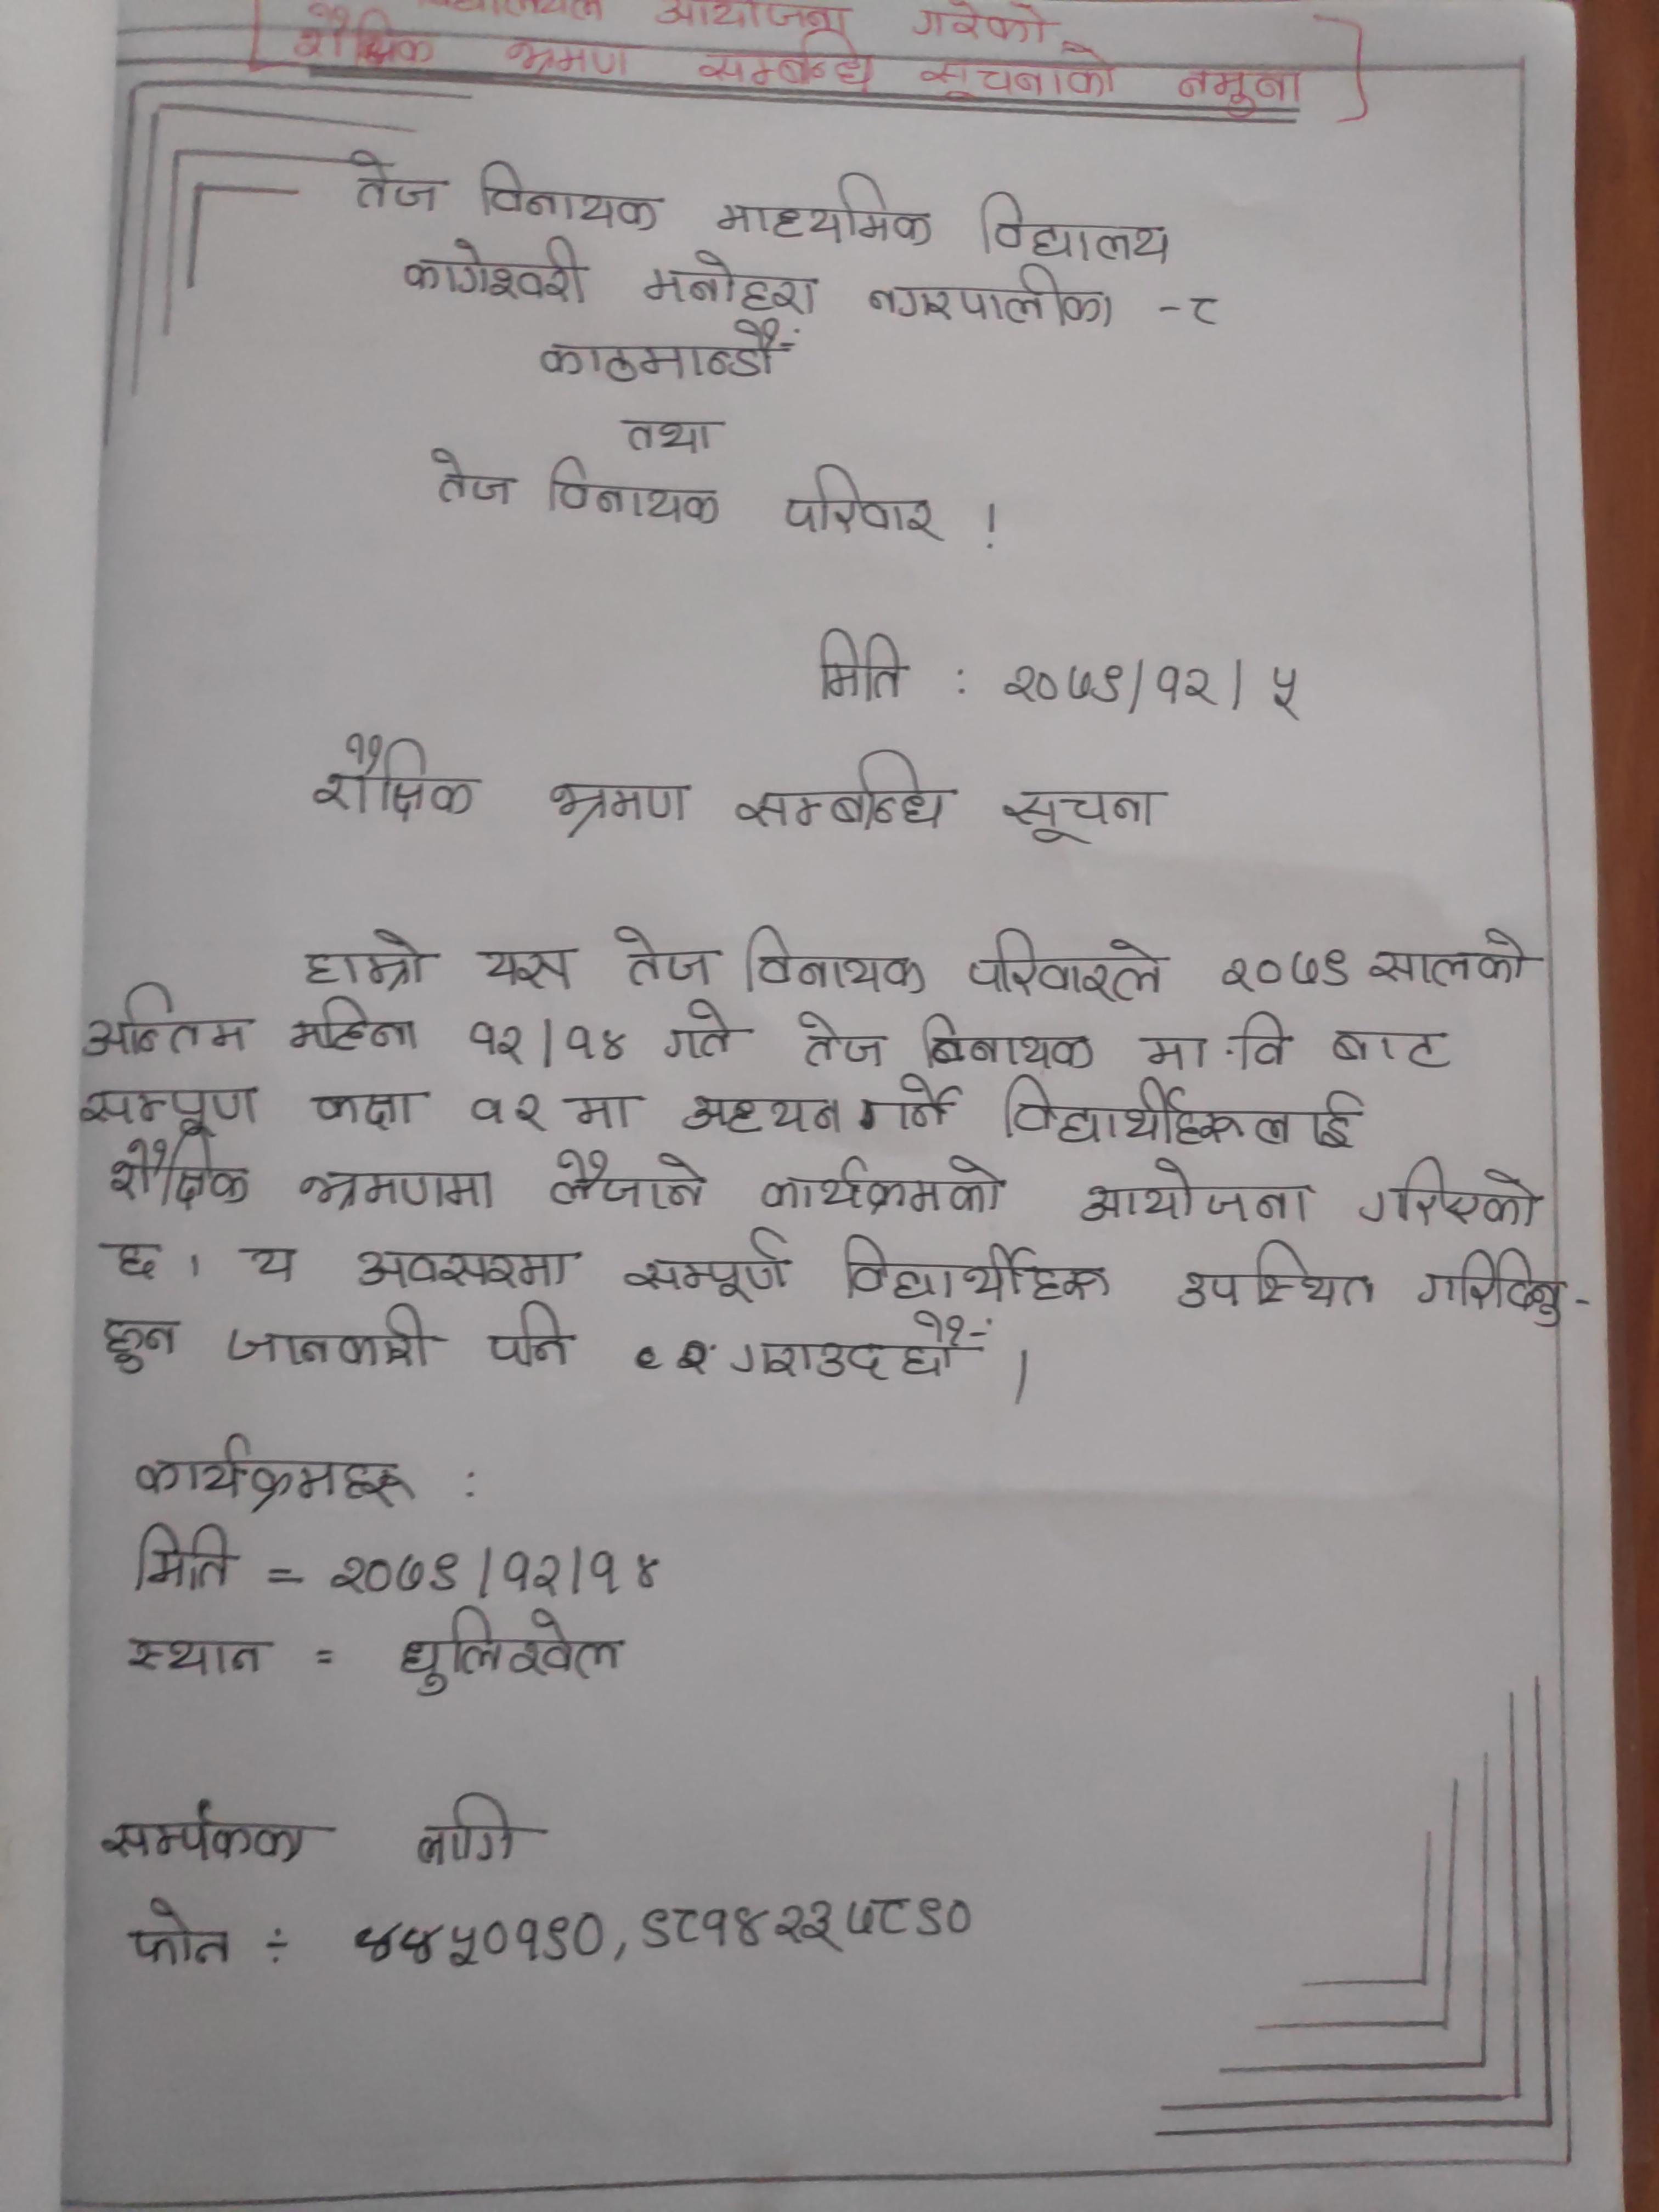text: (1000, 1071, 1366, 1162), (835, 1223, 1121, 1308), (131, 1430, 427, 1512), (394, 1599, 629, 1702), (730, 1305, 1006, 1392), (634, 1888, 979, 1954), (732, 742, 962, 833), (326, 1540, 666, 1601), (1002, 655, 1309, 721), (748, 1151, 1016, 1223), (216, 1298, 441, 1379), (307, 726, 483, 829), (964, 921, 1171, 1007), (859, 261, 1117, 329), (1351, 1150, 1547, 1238), (1171, 1235, 1377, 1318), (350, 1905, 610, 1972), (1072, 1155, 1317, 1224), (713, 172, 936, 249), (535, 320, 809, 381), (92, 1799, 322, 1871), (971, 185, 1180, 263), (396, 230, 592, 310), (737, 920, 932, 998), (469, 158, 671, 233), (915, 40, 1127, 110), (624, 1224, 795, 1310), (781, 463, 950, 549), (694, 26, 885, 101), (350, 1235, 577, 1298), (78, 979, 251, 1059), (640, 244, 826, 317), (540, 455, 727, 528), (1412, 1245, 1574, 1329), (105, 1130, 251, 1217), (547, 1141, 711, 1217), (462, 1003, 633, 1073), (993, 779, 1173, 845), (1363, 921, 1532, 991), (1136, 1005, 1297, 1076), (75, 1076, 267, 1136), (540, 772, 702, 841), (676, 1085, 852, 1146), (915, 1015, 1101, 1073), (124, 1517, 251, 1599), (406, 1787, 530, 1869), (291, 7, 441, 73), (296, 1165, 498, 1214), (124, 1892, 240, 1975), (298, 923, 432, 995), (113, 1627, 282, 1683), (805, 620, 913, 704), (289, 995, 420, 1061), (1324, 1010, 1448, 1078), (1213, 942, 1356, 1000), (342, 148, 448, 225), (483, 1298, 584, 1374), (613, 921, 716, 993), (416, 441, 518, 512), (305, 1082, 437, 1134), (786, 1007, 892, 1071), (1175, 61, 1305, 113), (471, 939, 580, 1000), (655, 995, 742, 1071), (500, 37, 647, 78), (92, 1310, 186, 1374), (913, 3, 1056, 42), (652, 3, 856, 30), (469, 1082, 558, 1139), (615, 413, 727, 458), (885, 1075, 967, 1136), (237, 1237, 315, 1292), (568, 1090, 640, 1139), (105, 1238, 164, 1287), (1187, 289, 1230, 329)
